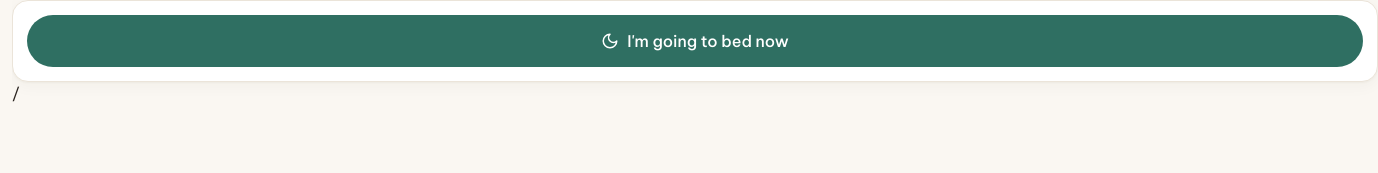
Test case: BedtimeButton › says so when saving fails and keeps the button
Click the button "I'm going to bed now" at coordinates (695, 41), box x1=27 y1=15 x2=1363 y2=67
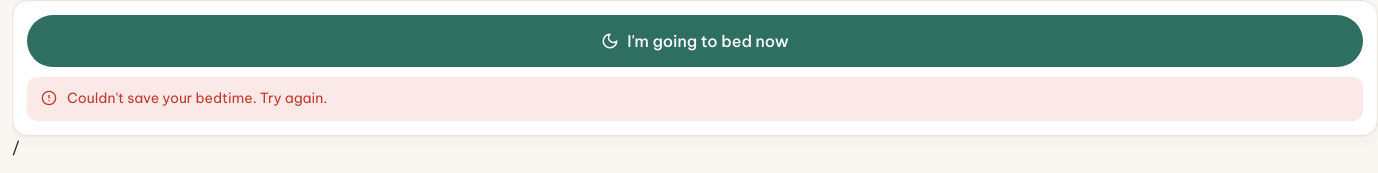
Now the text "Couldn't save your bedtime. Try again." is shown, box x1=67 y1=88 x2=327 y2=110
